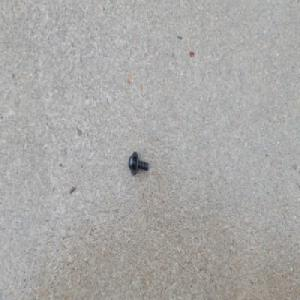BoltWasher: (128, 149, 149, 175)
